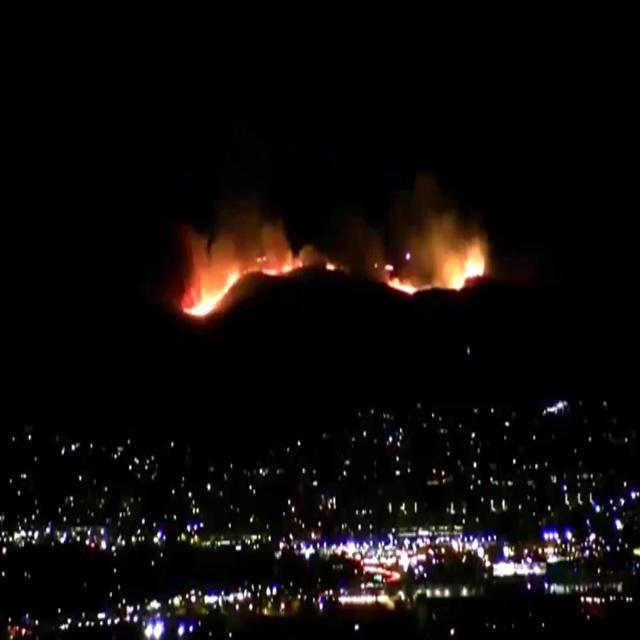Fire: (168, 233, 246, 319), (438, 220, 502, 290), (372, 231, 422, 303), (260, 246, 306, 279), (324, 257, 336, 273)
Smoke: (232, 184, 294, 252)
